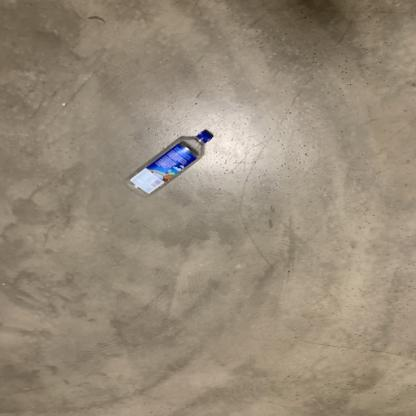trash: (125, 126, 215, 197)
